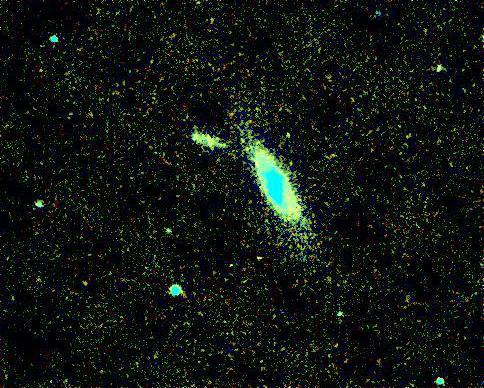star: (326, 298, 356, 328)
